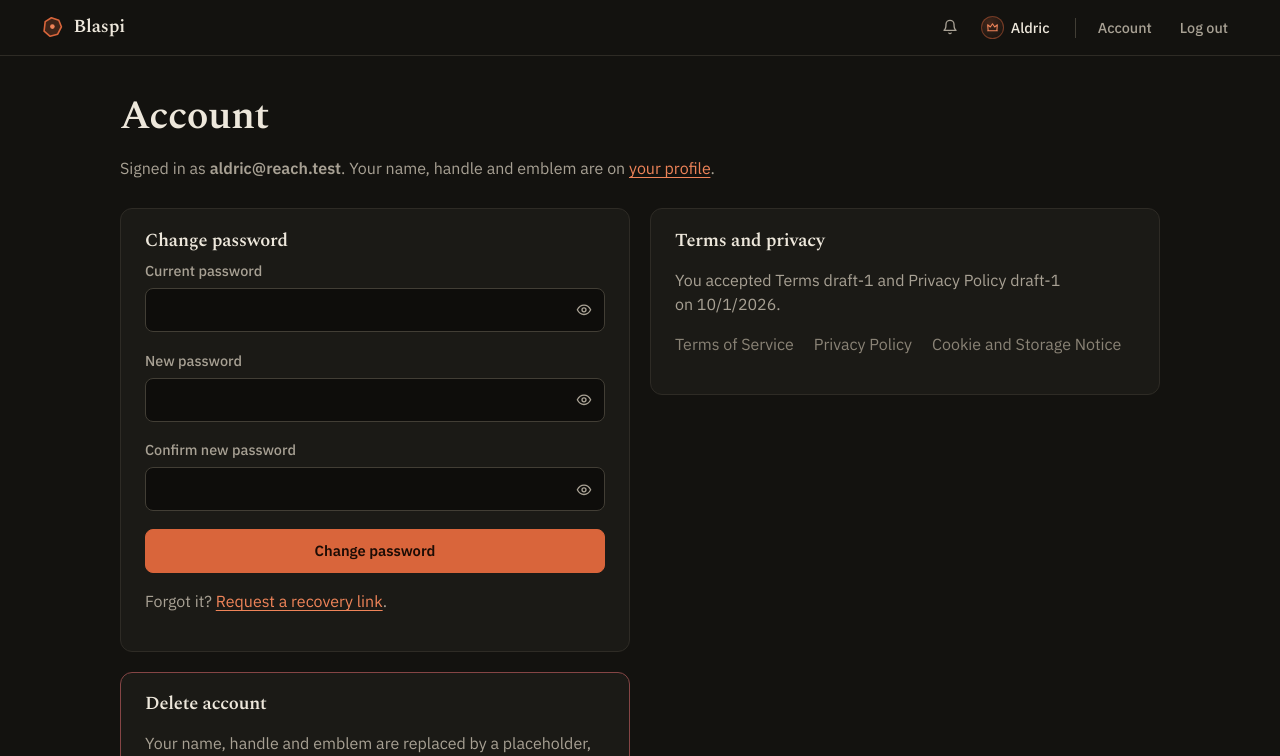
Scenario: AccountPage › changes the password only after confirming the current one
The image size is (1280, 756).
Expected: the text "aldric@reach.test" is shown, 210,158 -> 341,178
Type "old-password" into the password field labelled "Current password" at (375, 310), box 145,288 -> 605,332
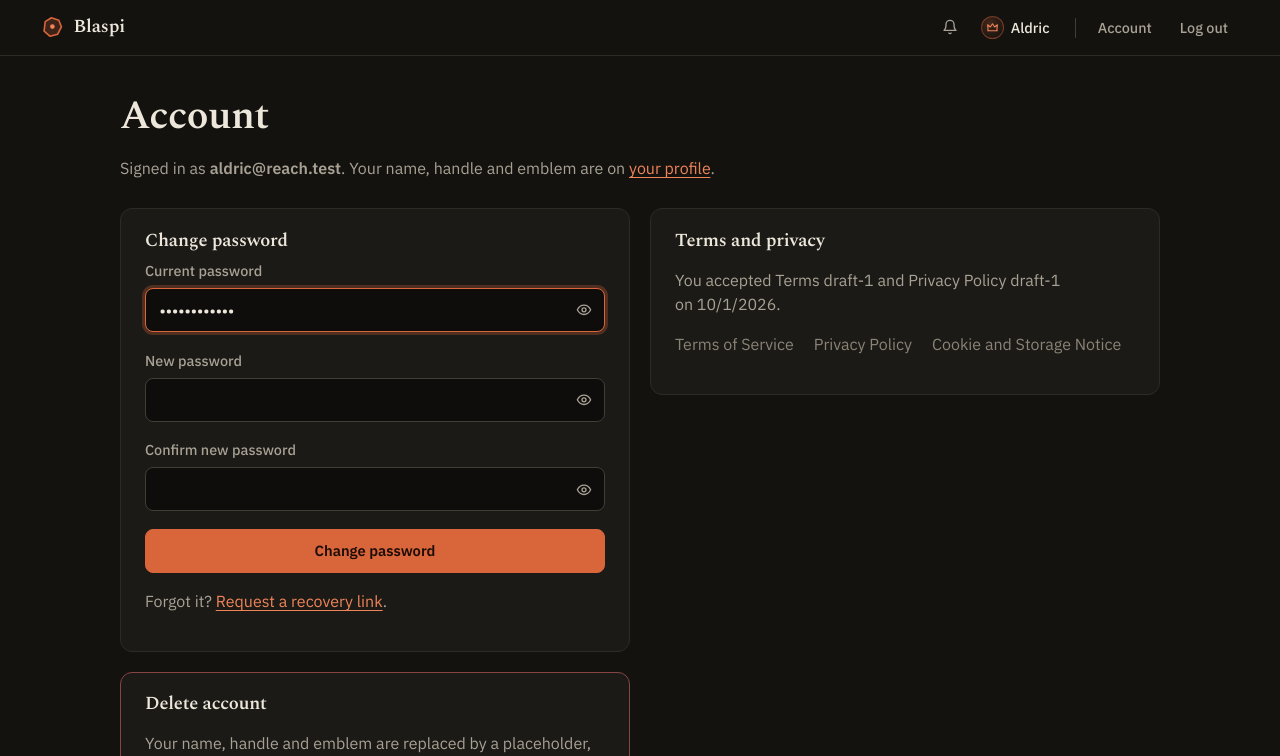
Type "new-password-1" into the password field labelled "New password" at (375, 400), box 145,378 -> 605,422
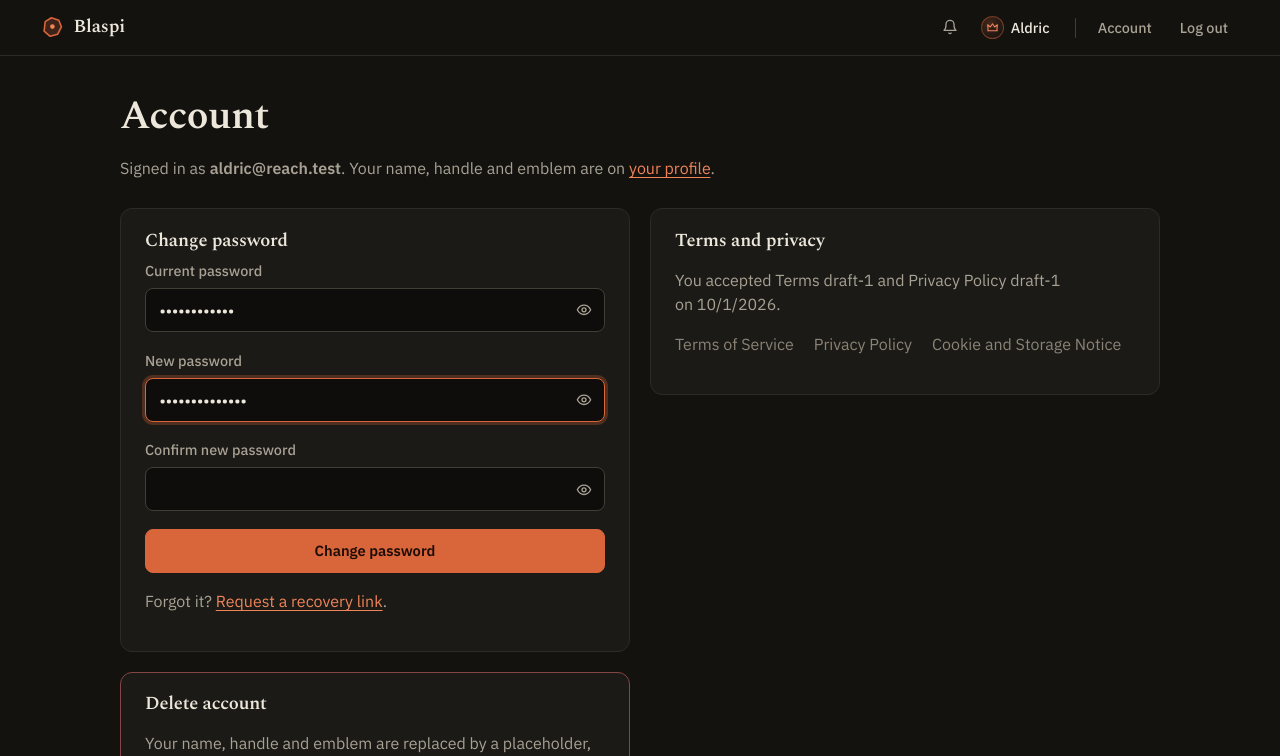
Type "new-password-1" into the password field labelled "Confirm new password" at (375, 489), box 145,467 -> 605,511
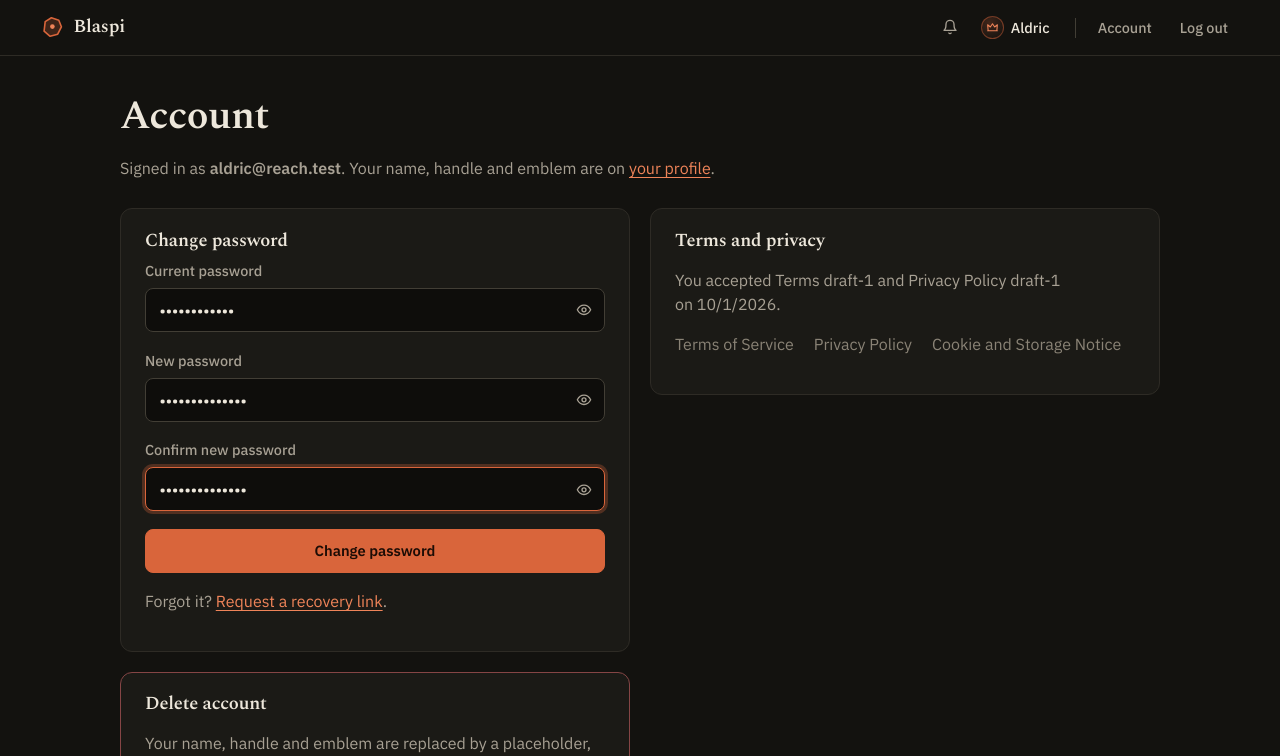
Click the button "Change password" at (375, 551), box 145,529 -> 605,573
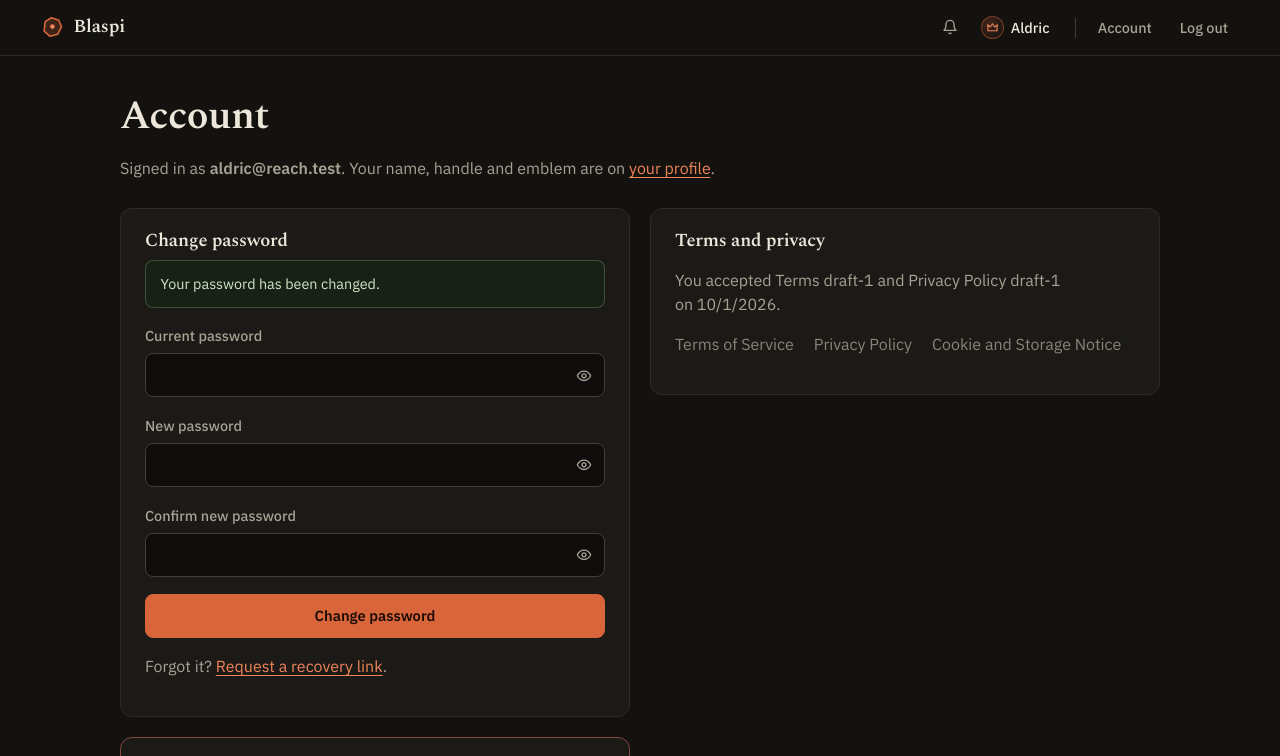
Expected: the text "You accepted Terms draft-1" is shown, 675,270 -> 1060,314
Expected: the text "Your password has been changed." is shown, 145,260 -> 605,308
